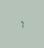seven: (19, 19, 22, 28)
